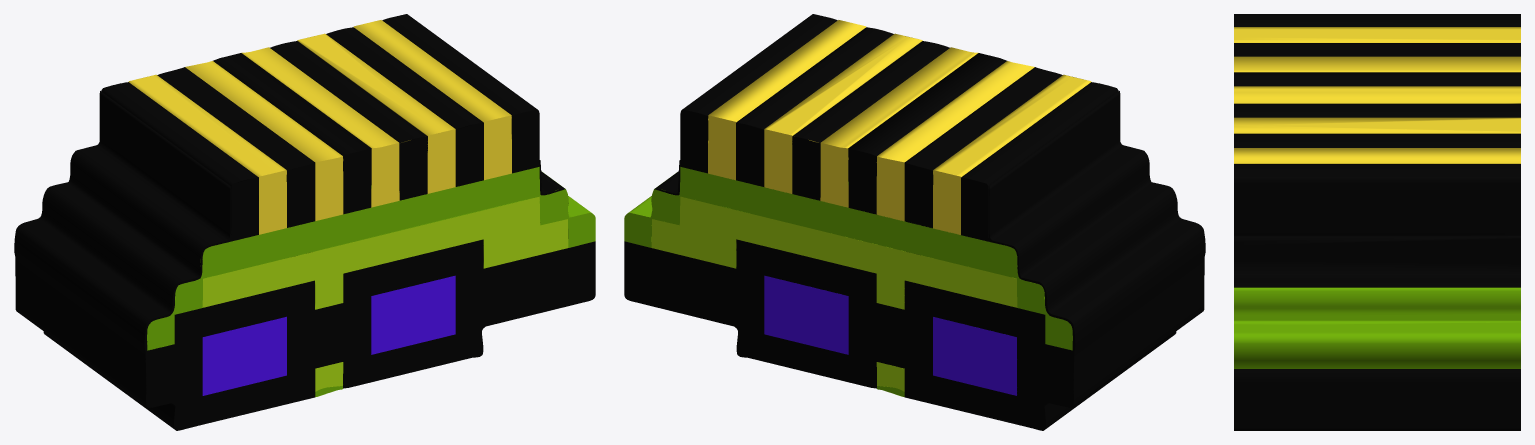
File: Toadz_3673.glb
The picture shows the model from 3 angles, left to right: view 1: azimuth 30°, elevation 25°; view 2: azimuth 150°, elevation 25°; view 3: azimuth 270°, elevation 25°; orthographic projection. The views are drawn at different scales.
Parts seen in each view (by area): view 1: Curve; view 2: Curve; view 3: Curve.
Part boxes in pixels (x1,y1,x2,y2): Curve: (14, 14, 595, 430); Curve: (624, 14, 1205, 430); Curve: (1234, 14, 1520, 430).
Bounding box in the file's own units: 2 × 0.9957 × 1.
